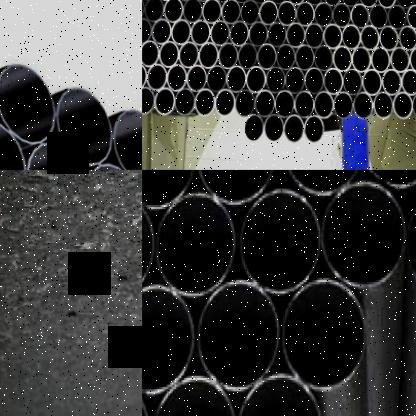pipe: (278, 276, 369, 394), (318, 180, 408, 291), (195, 280, 283, 390), (238, 187, 325, 297), (152, 192, 237, 297), (142, 284, 197, 394), (55, 85, 116, 167), (0, 62, 55, 147), (234, 369, 323, 416), (149, 375, 237, 416), (195, 170, 279, 206), (282, 170, 368, 198), (142, 170, 198, 210), (24, 139, 86, 170), (112, 107, 142, 170), (402, 189, 416, 299), (0, 117, 27, 170), (294, 90, 315, 119), (274, 90, 295, 119), (304, 116, 324, 146), (254, 90, 275, 118), (246, 66, 267, 94), (226, 66, 247, 94), (186, 65, 207, 93), (237, 42, 258, 70), (198, 42, 219, 70), (151, 18, 172, 46), (284, 115, 304, 144), (244, 115, 264, 144), (264, 114, 284, 143), (195, 89, 215, 118), (175, 88, 195, 117), (155, 87, 175, 116), (333, 92, 354, 119), (159, 41, 180, 68), (210, 20, 231, 47), (353, 92, 373, 120), (314, 91, 334, 119), (235, 90, 255, 118), (215, 90, 235, 118), (362, 69, 382, 97), (382, 68, 402, 96), (304, 68, 324, 96), (285, 67, 305, 95), (266, 66, 286, 94), (167, 64, 187, 92), (147, 64, 167, 92), (390, 46, 410, 74), (371, 46, 391, 74), (333, 45, 353, 73), (314, 44, 334, 72), (295, 44, 315, 72), (218, 42, 238, 70), (179, 42, 199, 70), (373, 92, 393, 119), (207, 66, 227, 93), (286, 22, 306, 49), (267, 22, 287, 49), (191, 19, 211, 46), (171, 19, 191, 46), (343, 68, 362, 96), (324, 68, 343, 96), (257, 43, 276, 71), (230, 20, 249, 48), (393, 92, 412, 119), (352, 46, 371, 73), (276, 44, 295, 71), (379, 25, 398, 52), (305, 23, 324, 50), (249, 21, 268, 48), (221, 0, 241, 25), (360, 25, 379, 51), (314, 2, 333, 28), (324, 23, 342, 50), (182, 0, 202, 24), (142, 40, 159, 68), (351, 4, 370, 29), (296, 2, 315, 27), (342, 24, 360, 50), (370, 4, 388, 30), (241, 0, 259, 26), (144, 0, 164, 23), (278, 2, 297, 26), (202, 0, 221, 24), (398, 26, 416, 51), (388, 5, 406, 30), (333, 3, 351, 28), (260, 1, 278, 26), (400, 69, 416, 97), (164, 0, 183, 23), (142, 86, 155, 115), (405, 4, 416, 29), (142, 18, 151, 44), (409, 47, 416, 73), (395, 0, 414, 9), (359, 0, 378, 8), (377, 0, 395, 8), (323, 0, 342, 7), (341, 0, 359, 7), (412, 92, 416, 119), (142, 63, 146, 90), (305, 0, 323, 6), (287, 0, 306, 5), (269, 0, 287, 5), (251, 0, 270, 4)
